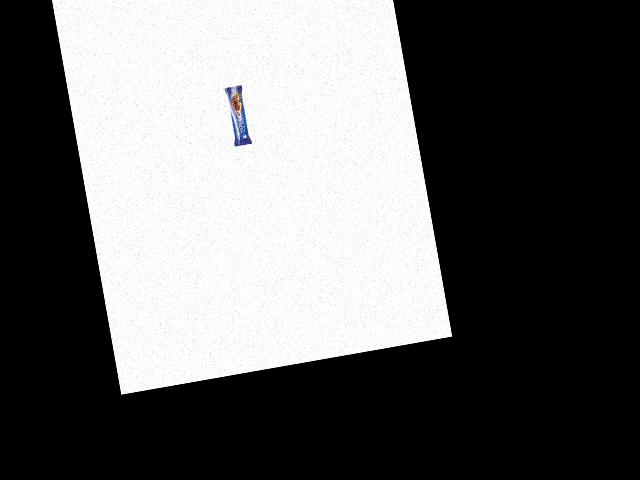chocolate: (222, 76, 258, 148)
